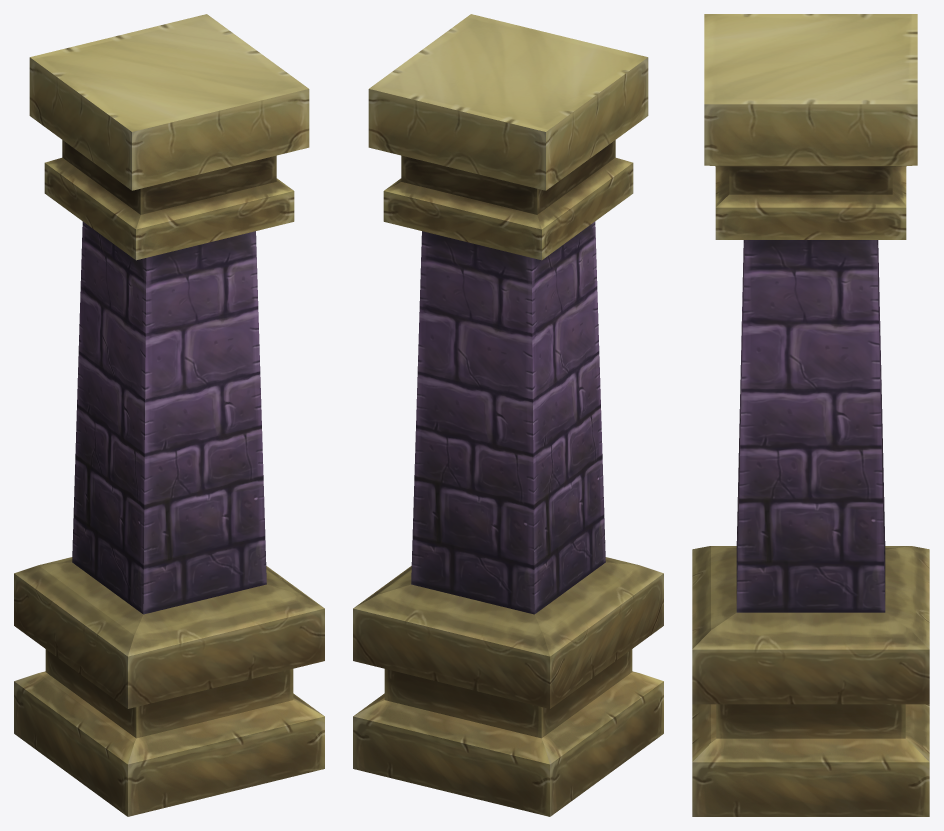
Rendered from Pillar.fbx.
The picture shows the model from 3 angles, left to right: view 1: azimuth 30°, elevation 25°; view 2: azimuth 150°, elevation 25°; view 3: azimuth 270°, elevation 25°; orthographic projection. The views are drawn at different scales.
Parts seen in each view (by area): view 1: Pillar; view 2: Pillar; view 3: Pillar.
Boxes of the visible parts, x1,y1,x2,y2 form: Pillar: (14, 14, 324, 816); Pillar: (353, 14, 663, 816); Pillar: (692, 14, 929, 816).
Bounding box in the file's own units: 200 × 658 × 200.
